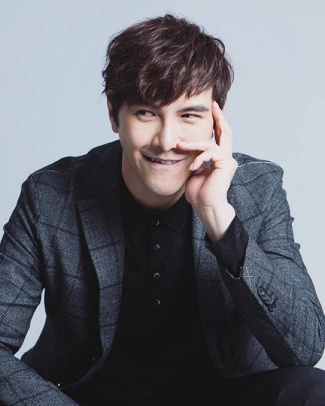male: (98, 14, 242, 204)
